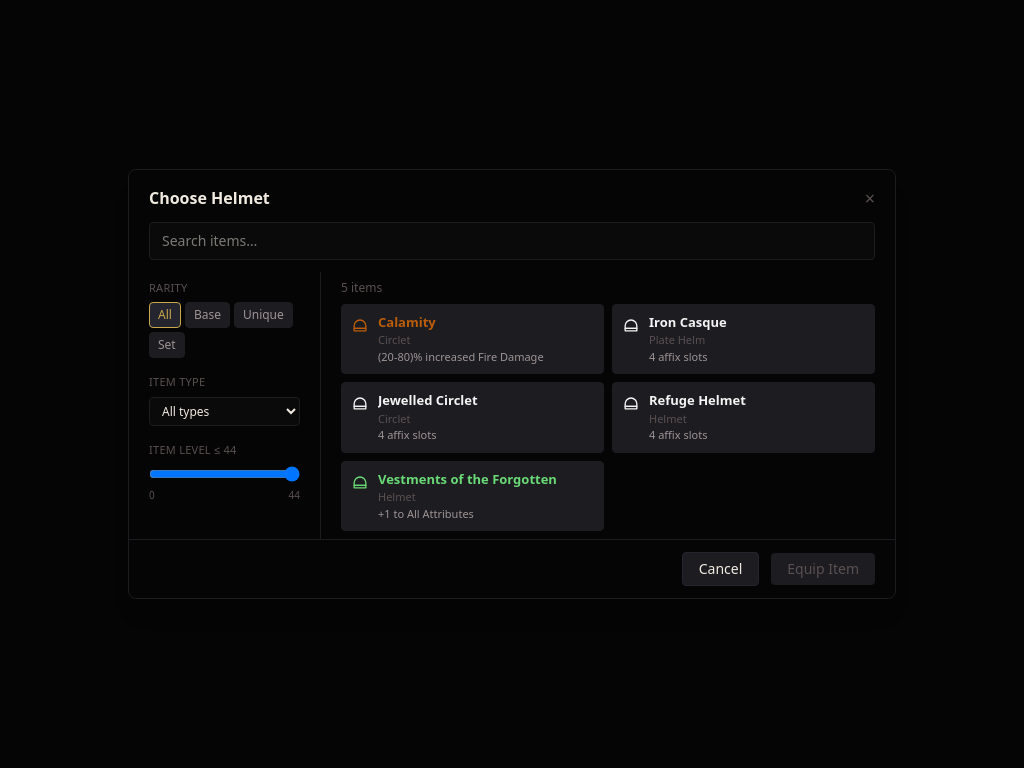
Test: ItemPickerModal › Item Level slider narrows by the real levelRequirement (low shows, high hides)
The image size is (1024, 768).
Set the slider named "Maximum item level" to "9" at point(185, 474), box [149,466,300,482]
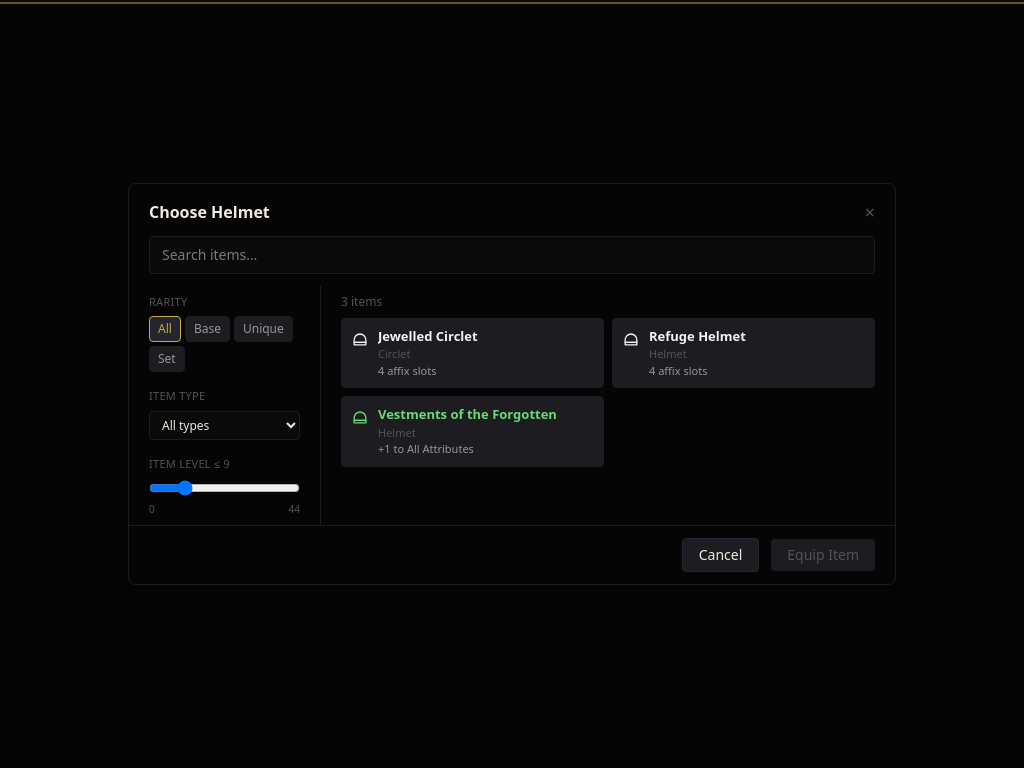
Expected: the text "Jewelled Circlet" is shown, [378,327,478,346]
Result: the text "Iron Casque" is gone
Result: the text "Calamity" is gone
